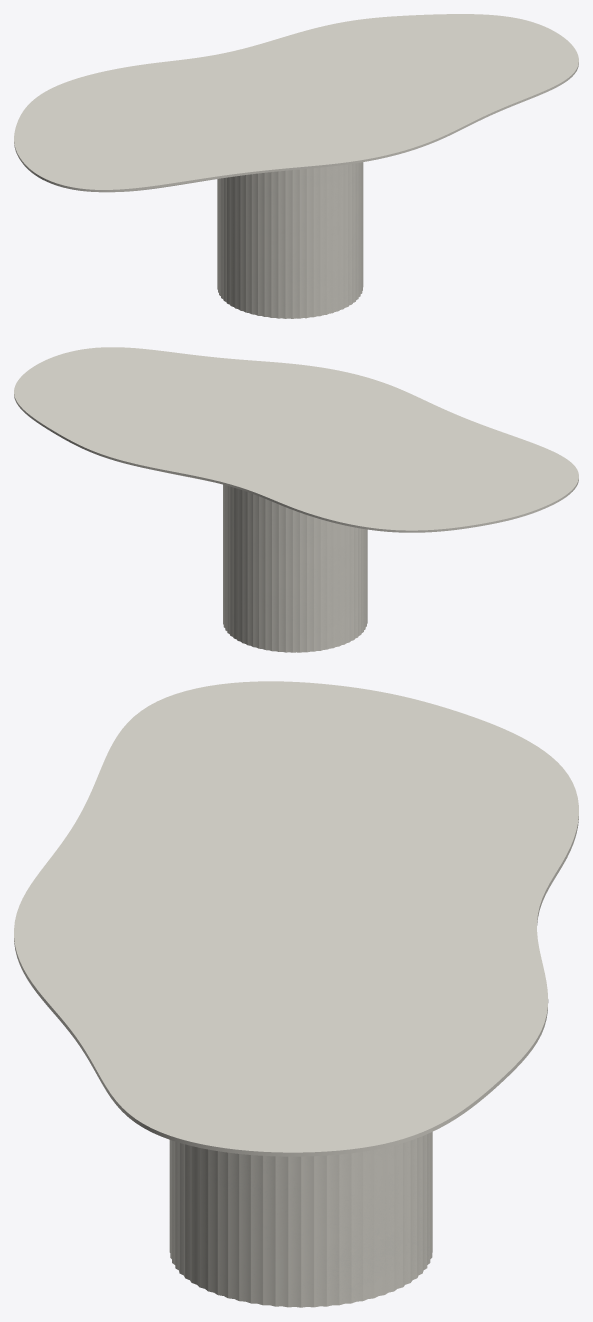
File: pale_toplast_facet_ripple.glb
3 views of the same model, one above another, from view 1: azimuth 30°, elevation 25°; view 2: azimuth 150°, elevation 25°; view 3: azimuth 270°, elevation 25° (orthographic). The views are drawn at different scales.
Visible parts, largest first — view 1: facet_toplast, ripple; view 2: facet_toplast, ripple; view 3: facet_toplast, ripple.
Boxes of the visible parts, x1=… form: facet_toplast: x1=14, y1=14, x2=578, y2=192; ripple: x1=217, y1=162, x2=363, y2=318; facet_toplast: x1=14, y1=347, x2=578, y2=532; ripple: x1=223, y1=484, x2=367, y2=652; facet_toplast: x1=14, y1=681, x2=578, y2=1156; ripple: x1=169, y1=1132, x2=432, y2=1307.
Size of the model in its own units: 7.5 by 2.5 by 3.8.
1 material, 1 textured.
